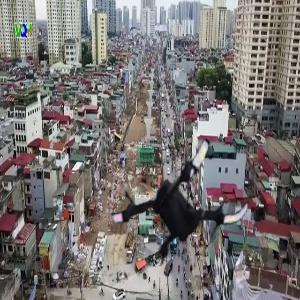drone: (99, 131, 253, 285)
